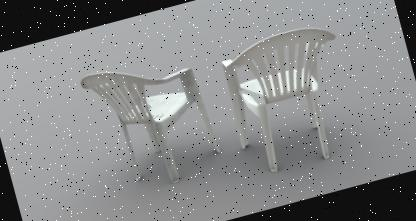chair: (208, 12, 367, 184), (74, 44, 228, 204)
